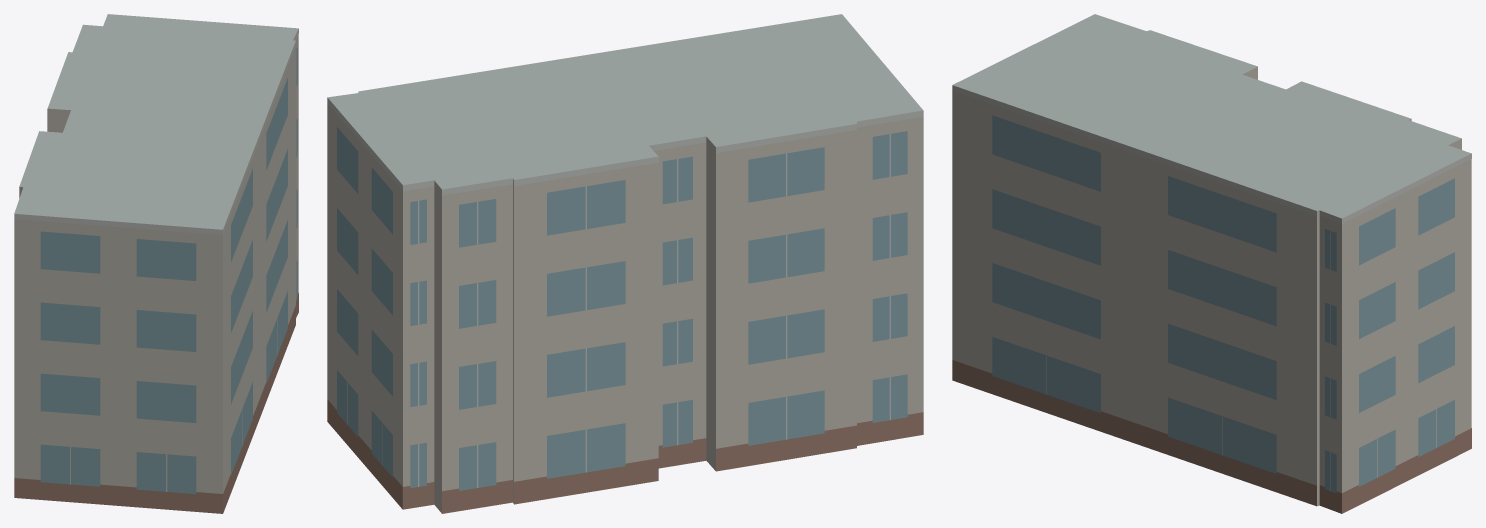
Rendered from survey-upis-32674288.glb.
3 views of the same model, side by side, from view 1: azimuth 30°, elevation 25°; view 2: azimuth 150°, elevation 25°; view 3: azimuth 270°, elevation 25° (orthographic). The views are drawn at different scales.
Visible parts, largest first — view 1: survey-upis-32674288.tmp; view 2: survey-upis-32674288.tmp; view 3: survey-upis-32674288.tmp.
Boxes of the visible parts, box(x1,y1,x2,y2) form: survey-upis-32674288.tmp: box(14, 14, 298, 513); survey-upis-32674288.tmp: box(327, 14, 923, 513); survey-upis-32674288.tmp: box(952, 14, 1471, 513).
Bounding box in the file's own units: 19.47 × 13.1 × 20.89.
